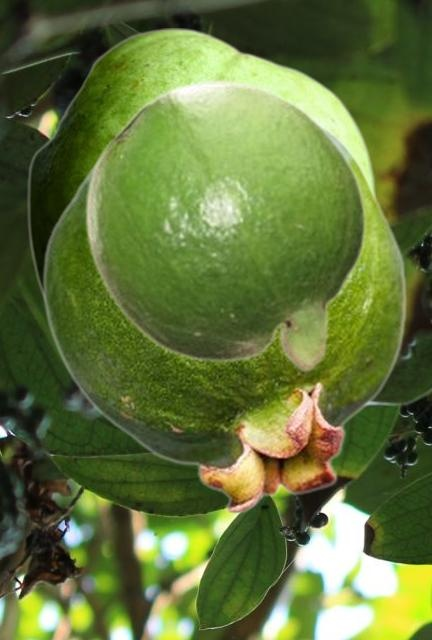guava: (41, 119, 406, 514), (27, 28, 374, 299), (83, 78, 366, 373)
